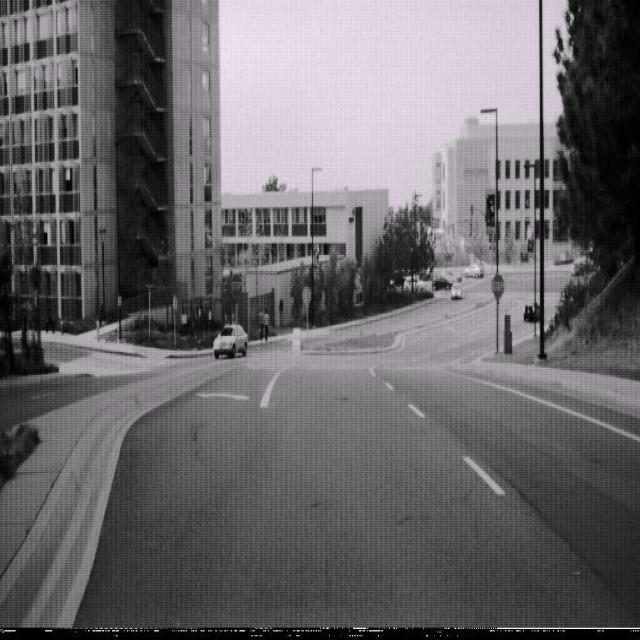stop_sign: (491, 272, 505, 302), (229, 272, 243, 300)
